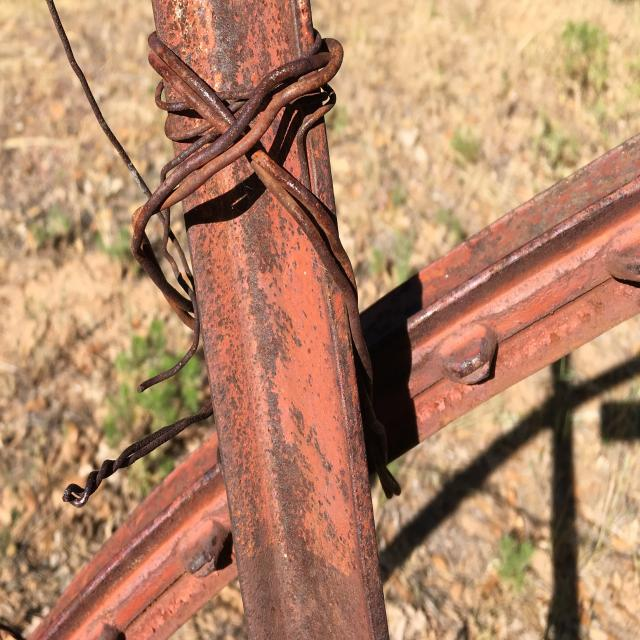corrosion: (109, 17, 377, 391), (425, 118, 640, 408), (204, 407, 416, 640)
